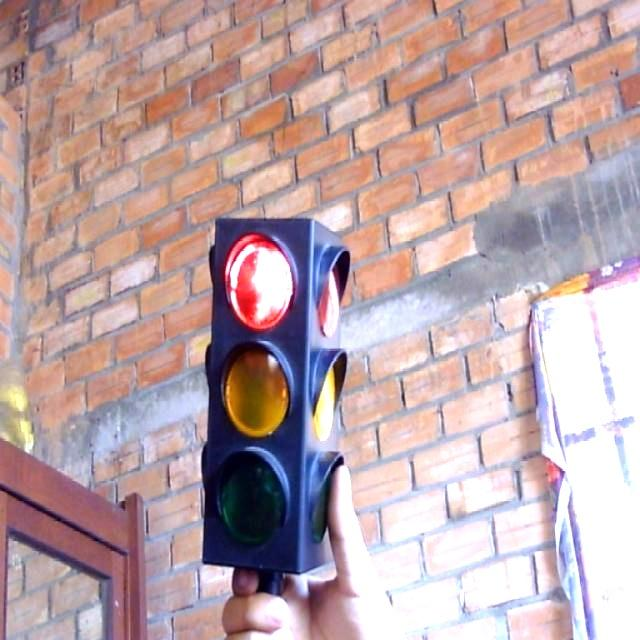Red: (190, 210, 353, 585)
